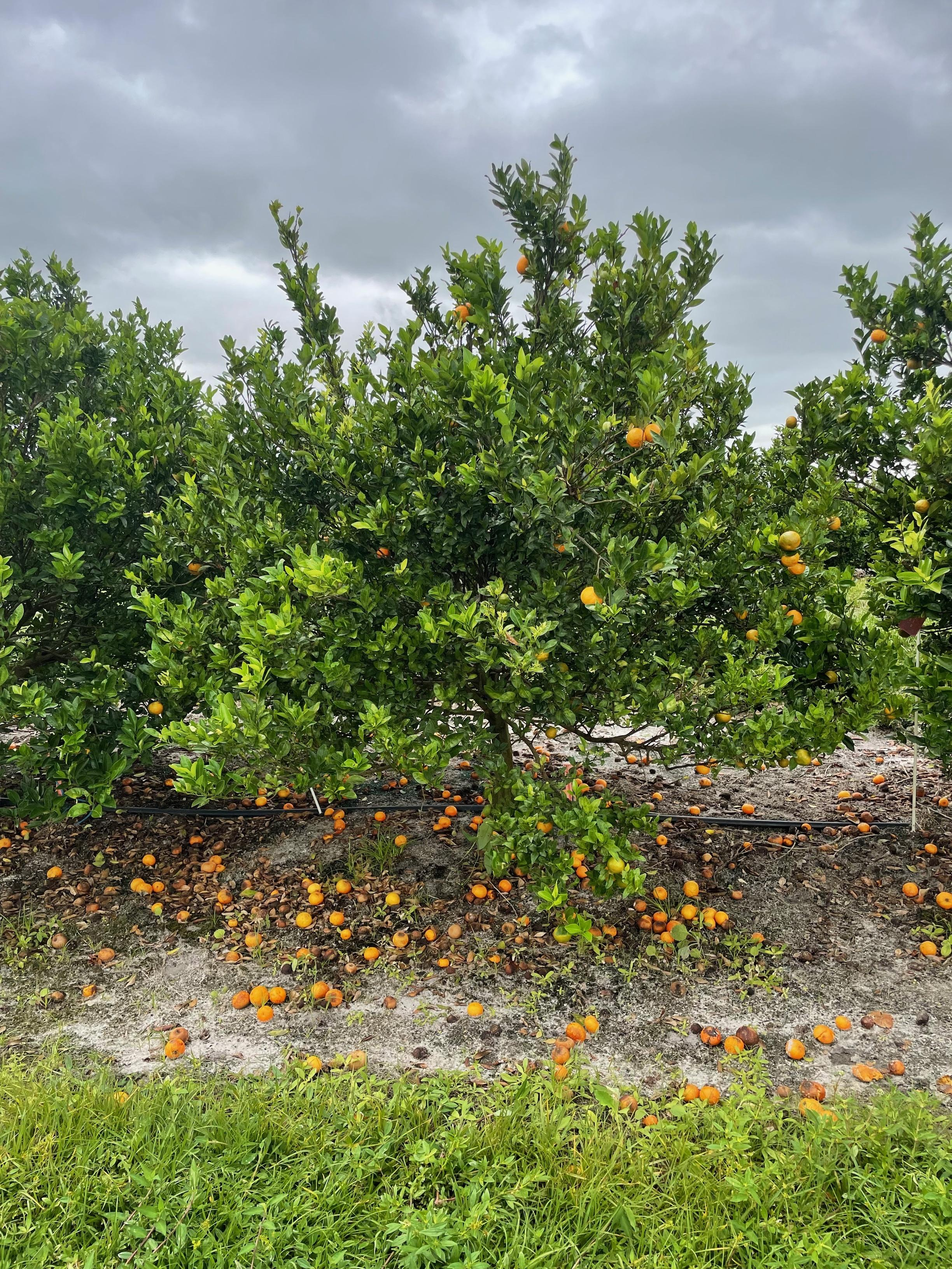fruit_on_ground: (623, 423, 649, 450), (579, 583, 607, 608), (182, 554, 208, 579), (553, 217, 578, 239), (777, 529, 802, 551), (515, 252, 535, 277), (642, 422, 663, 444), (450, 303, 472, 324), (793, 747, 814, 767), (784, 608, 805, 628), (868, 325, 889, 345), (605, 855, 626, 875), (778, 549, 801, 567), (552, 924, 572, 944), (145, 698, 165, 717), (786, 558, 807, 576), (880, 703, 900, 721), (913, 496, 932, 514), (824, 514, 843, 532), (731, 605, 751, 622), (374, 544, 393, 561), (904, 355, 923, 372), (536, 817, 555, 834), (821, 668, 840, 685), (714, 708, 732, 725), (744, 627, 761, 643), (574, 864, 591, 879), (694, 761, 711, 776), (783, 415, 800, 430), (570, 848, 585, 863), (544, 725, 558, 739), (777, 755, 790, 769), (568, 857, 583, 869), (506, 848, 519, 861)
fruit_on_tree: (796, 1096, 825, 1123), (798, 1078, 827, 1101), (162, 1038, 186, 1060), (107, 1089, 132, 1110), (698, 1084, 721, 1106), (785, 1037, 807, 1060), (346, 1049, 369, 1070), (566, 1019, 589, 1039), (812, 1022, 835, 1042), (738, 1026, 760, 1046), (700, 1026, 722, 1046), (617, 1093, 639, 1113), (249, 983, 270, 1003), (723, 1035, 745, 1054), (819, 1106, 840, 1125), (230, 990, 251, 1009), (255, 1003, 276, 1022), (310, 979, 330, 998), (324, 988, 344, 1007), (294, 909, 313, 928), (681, 1082, 700, 1101), (170, 1024, 190, 1042), (919, 939, 939, 957), (551, 1046, 570, 1064), (582, 1014, 600, 1033), (466, 999, 485, 1017), (935, 889, 952, 909), (130, 876, 150, 893), (270, 984, 287, 1004), (700, 906, 718, 924), (682, 879, 700, 897), (243, 930, 262, 947), (97, 946, 116, 963), (49, 932, 68, 949), (901, 880, 920, 897), (554, 1035, 574, 1051), (552, 1063, 570, 1080), (392, 929, 410, 946), (834, 1013, 852, 1030), (327, 909, 345, 926), (304, 1053, 322, 1070), (199, 858, 218, 874), (651, 884, 668, 901), (714, 908, 731, 925), (384, 890, 401, 907), (445, 923, 462, 940), (680, 903, 698, 919), (636, 914, 654, 930), (470, 882, 488, 898), (362, 945, 381, 960), (640, 1113, 660, 1127), (224, 948, 241, 964), (335, 877, 352, 893), (217, 887, 234, 903), (308, 890, 324, 907), (666, 917, 684, 932), (141, 851, 157, 867), (80, 983, 97, 998), (46, 864, 63, 879), (312, 971, 330, 985), (658, 930, 676, 944), (72, 888, 88, 903), (602, 922, 618, 937), (295, 945, 311, 960), (382, 995, 398, 1010), (176, 908, 192, 923), (497, 877, 513, 892), (651, 909, 667, 924), (166, 881, 183, 895), (923, 841, 940, 855), (210, 839, 227, 853), (320, 945, 338, 958), (911, 890, 926, 905), (464, 885, 479, 900), (423, 926, 438, 941), (149, 899, 164, 914), (395, 836, 410, 851), (500, 961, 516, 975), (500, 920, 516, 934), (701, 916, 717, 930), (750, 930, 766, 944), (859, 809, 876, 822), (76, 879, 91, 893), (513, 864, 528, 878), (410, 927, 425, 941), (119, 774, 134, 788), (171, 877, 187, 890), (300, 877, 316, 890), (188, 832, 204, 845), (633, 898, 649, 911), (577, 781, 591, 795), (80, 862, 94, 876), (333, 818, 347, 832), (654, 832, 668, 846), (73, 882, 88, 895), (343, 961, 358, 974), (85, 900, 100, 913), (929, 790, 943, 803), (702, 867, 716, 880), (213, 861, 227, 874), (518, 913, 532, 926), (914, 784, 928, 797), (17, 818, 31, 831), (434, 817, 448, 830), (936, 795, 950, 808), (730, 888, 744, 901), (151, 879, 165, 892), (373, 809, 387, 822), (741, 802, 755, 815), (608, 795, 623, 807), (824, 825, 839, 837), (593, 778, 608, 790), (698, 775, 713, 787), (207, 853, 222, 865), (340, 928, 353, 941), (494, 940, 508, 952), (919, 828, 933, 840), (212, 928, 226, 940), (240, 877, 254, 889), (102, 884, 116, 896), (798, 821, 812, 833), (226, 916, 240, 928), (436, 955, 450, 967), (688, 803, 702, 815), (444, 804, 458, 816), (767, 833, 780, 845), (212, 902, 225, 914), (356, 890, 369, 902), (171, 844, 184, 856), (513, 933, 526, 945), (487, 951, 500, 963), (333, 806, 346, 818), (276, 786, 289, 798), (255, 795, 268, 807), (0, 836, 12, 849), (275, 902, 289, 913), (836, 788, 850, 799), (857, 822, 871, 833), (275, 916, 287, 928), (641, 755, 653, 767), (471, 814, 483, 826), (625, 752, 637, 764), (463, 910, 476, 921), (240, 796, 253, 807), (255, 785, 268, 796), (810, 756, 823, 767), (162, 777, 175, 788), (321, 805, 334, 816), (283, 800, 296, 811), (872, 773, 885, 784), (781, 836, 795, 846), (470, 769, 482, 780), (340, 773, 352, 784), (572, 776, 584, 787), (474, 794, 486, 805), (317, 795, 329, 806), (701, 851, 713, 862), (322, 830, 334, 841), (253, 890, 265, 901), (225, 800, 238, 810), (467, 821, 478, 832), (814, 872, 826, 882), (742, 841, 754, 851), (458, 759, 470, 769), (452, 794, 464, 804), (651, 791, 663, 801), (852, 790, 865, 799), (873, 754, 884, 764), (441, 787, 452, 797), (269, 887, 280, 897), (398, 776, 409, 786), (382, 780, 394, 789), (420, 762, 430, 772), (534, 746, 545, 755), (756, 764, 766, 773), (543, 750, 551, 758)
